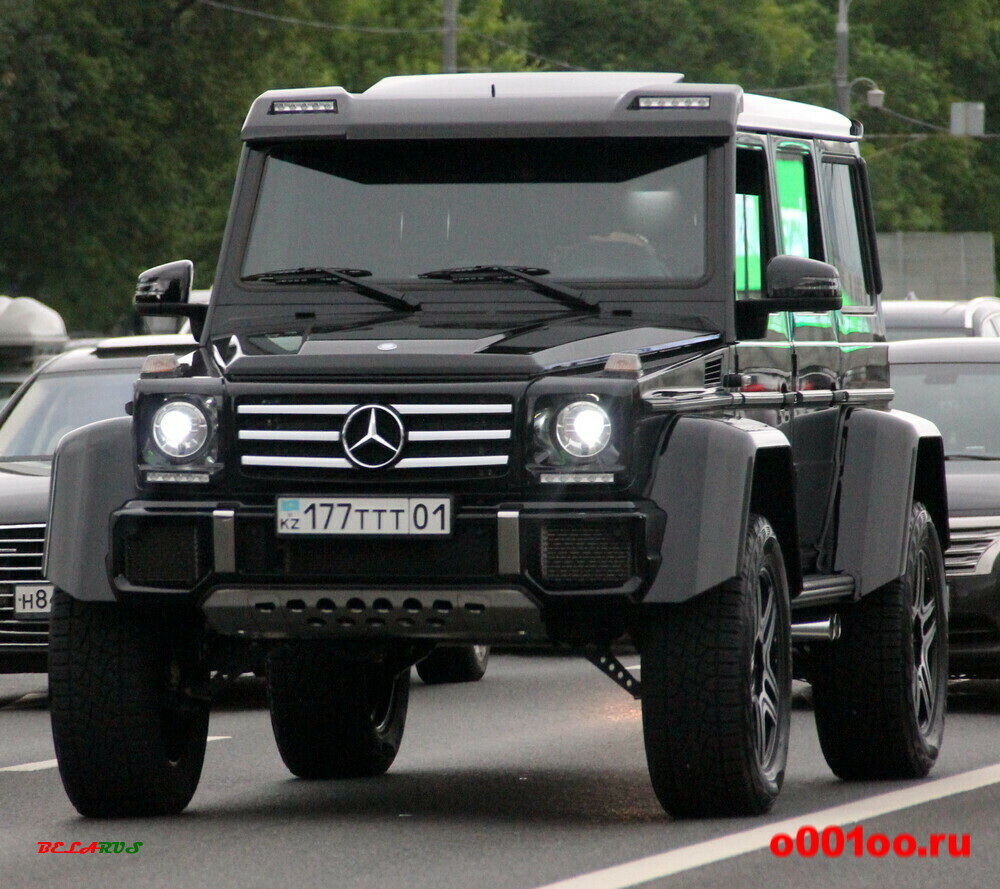license_plate: (278, 498, 458, 538)
